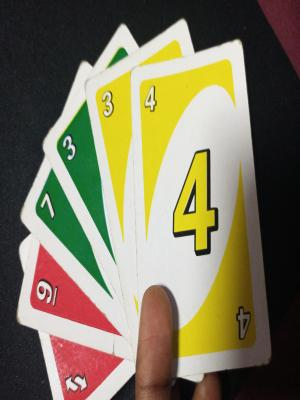green: (34, 190, 66, 239)
num_3: (56, 127, 89, 176)
num_4: (168, 137, 238, 263), (217, 297, 256, 343), (136, 79, 162, 136)
num_9: (33, 273, 71, 324)
reverse: (54, 343, 96, 396)
yellow: (101, 85, 126, 186)
